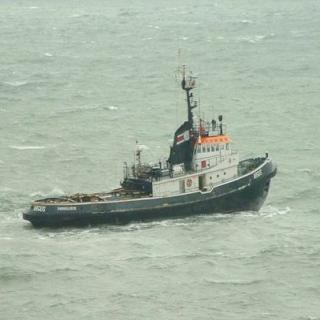Tug Boat: (26, 50, 276, 222)
